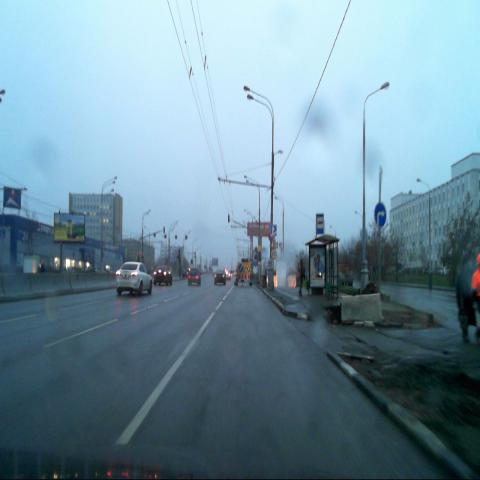4_1_2: (374, 203, 386, 227)
